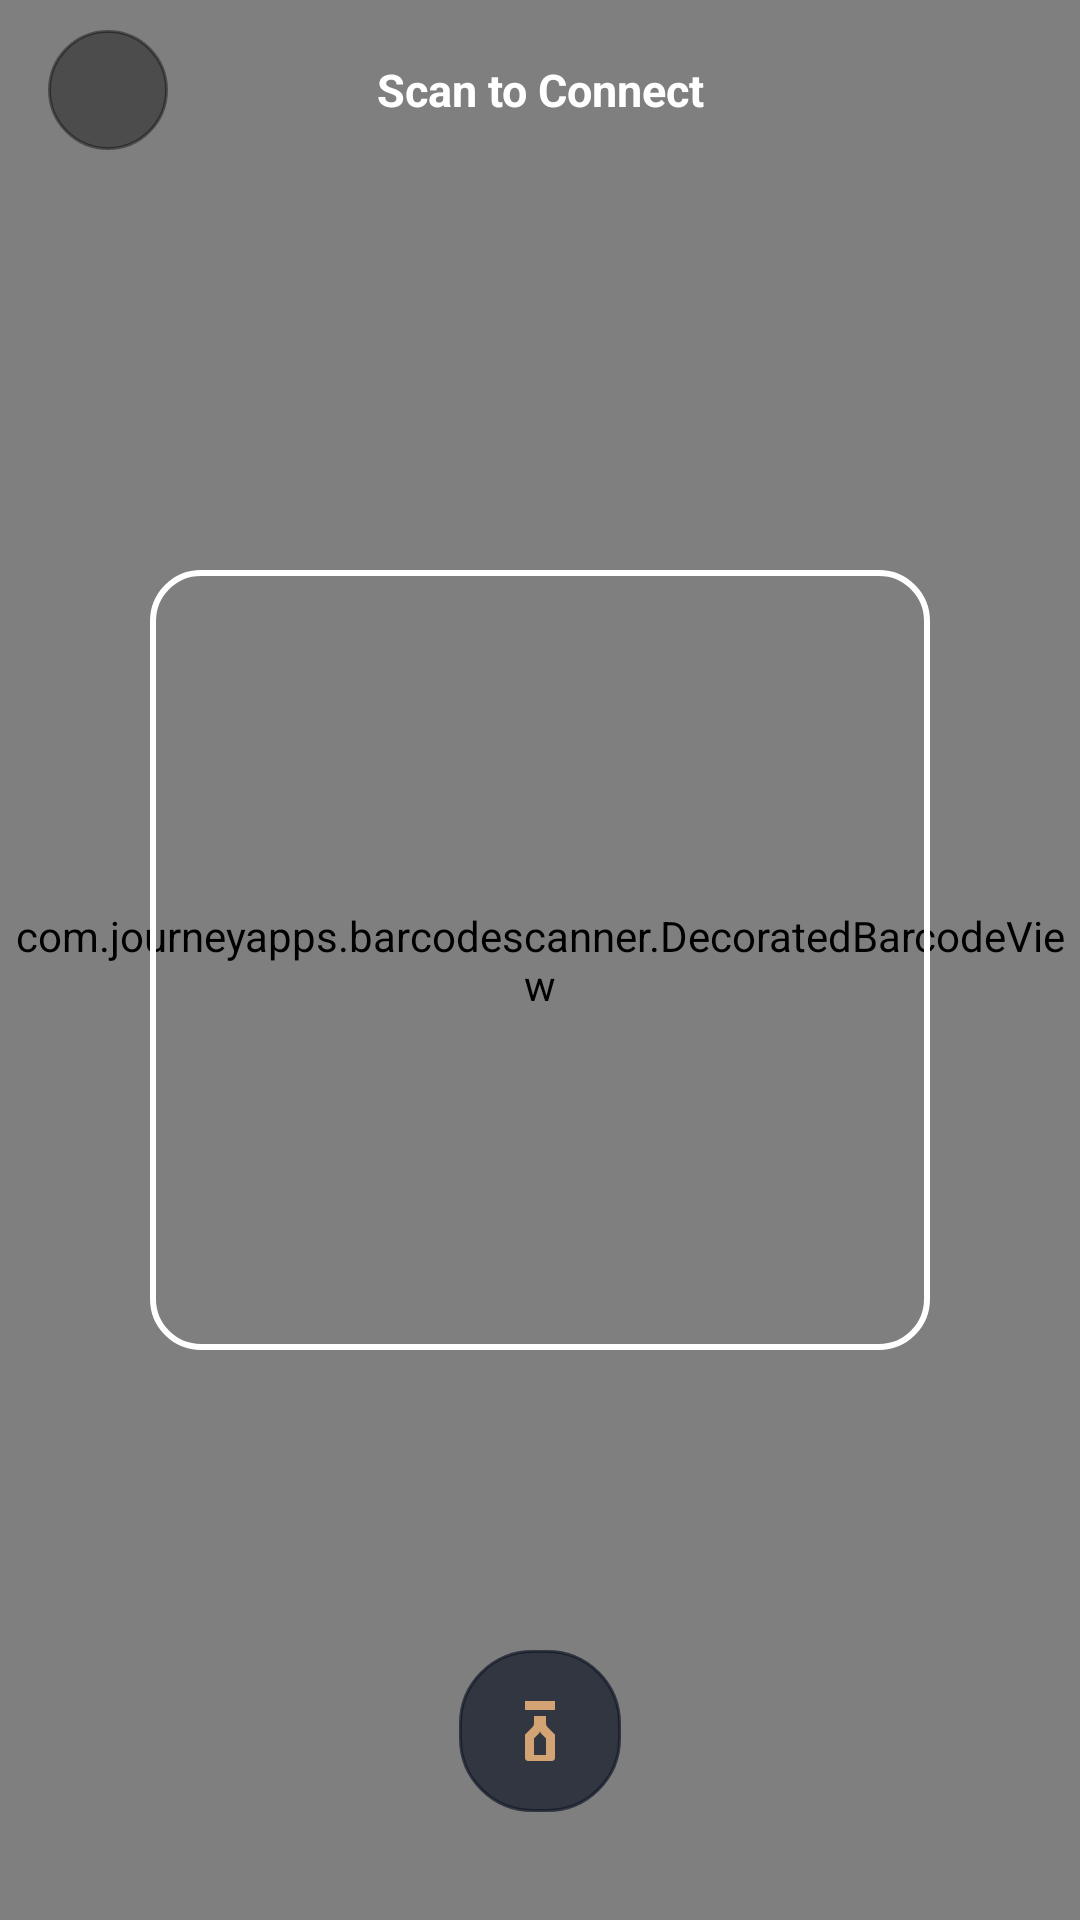

Icons on this 1080px×1920px Android screen, each with the point to tap as (x,y):
Toggle Flashlight: (540,1731)
